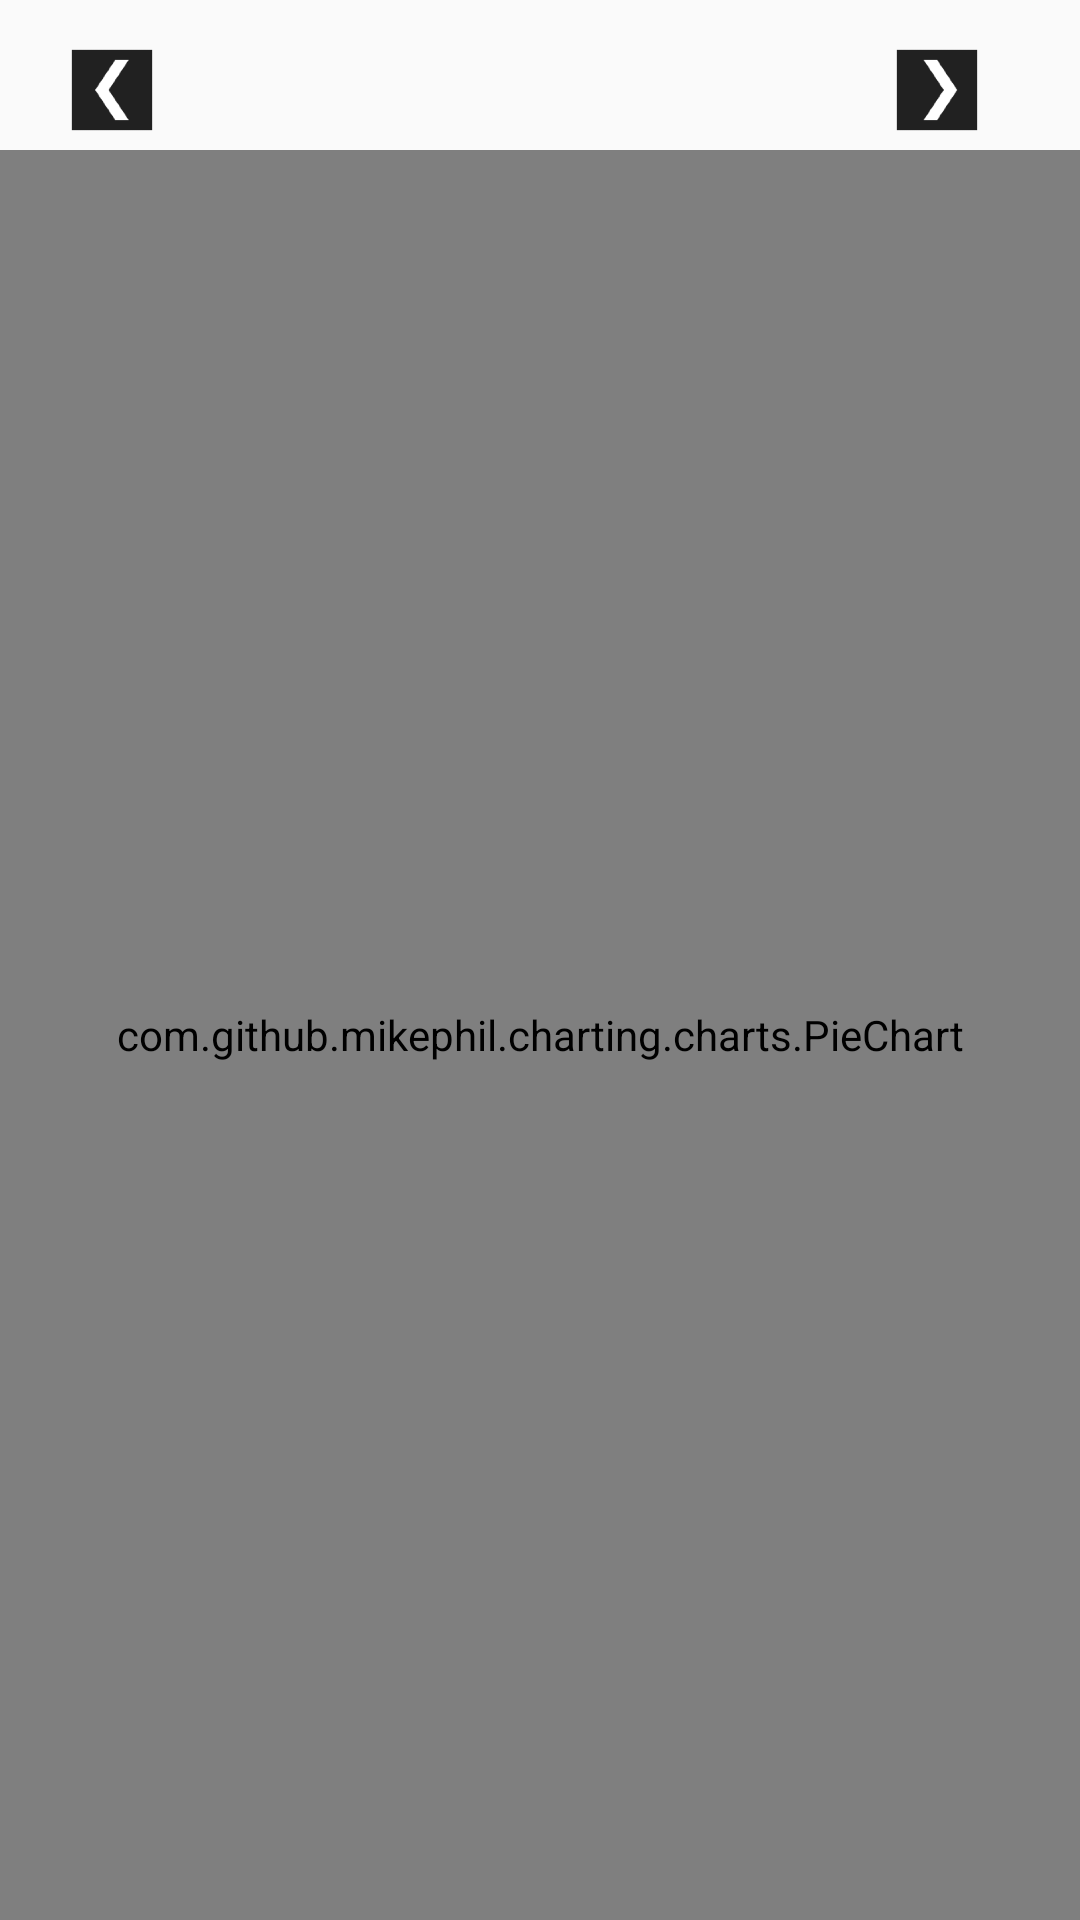

Where to tap for icons on this 1080w x 1920h app screen, as (x,y):
leftwhitearrow: (112,90)
rightwhitearrow: (937,90)
